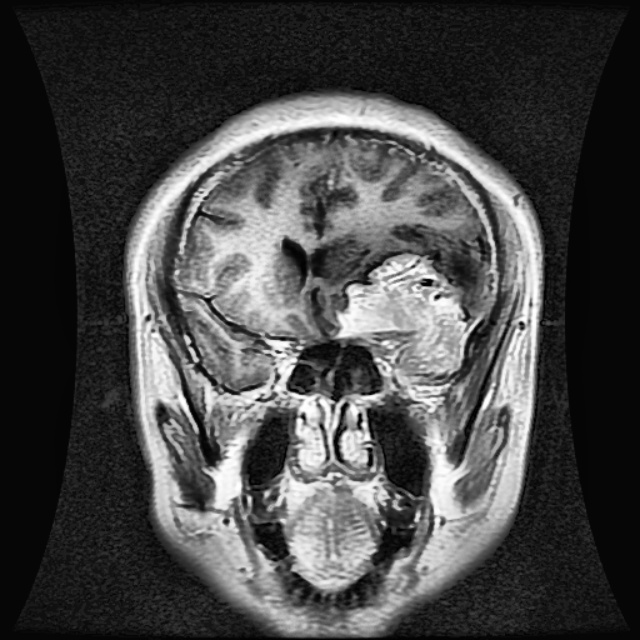Glioma: (334, 255, 473, 385)
